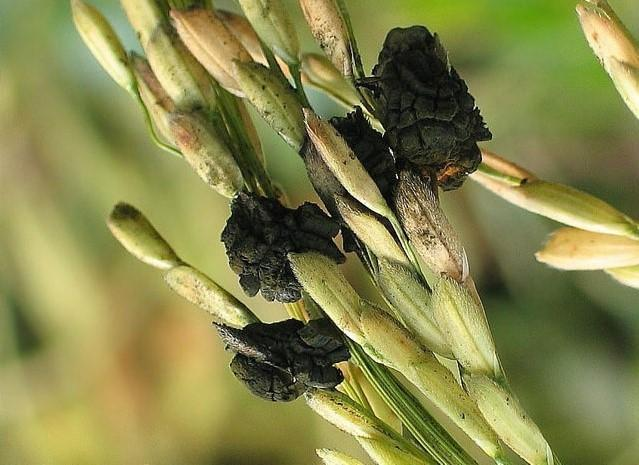False Smut: (360, 10, 498, 191), (304, 111, 410, 259), (215, 188, 349, 301), (206, 315, 356, 405)
